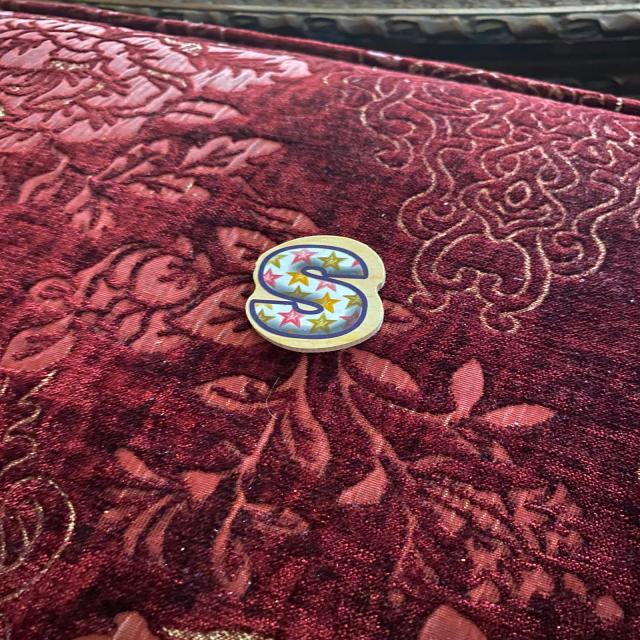S: (245, 235, 385, 352)
